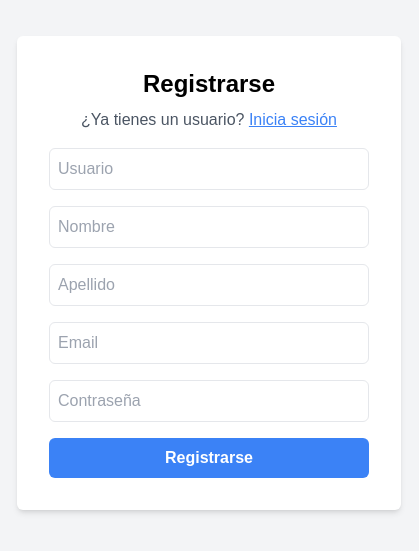
Scenario: Página de Registro › Debe mostrar un mensaje de error si el servidor devuelve un error
# Completar el formulario y enviar
Step 1. Type "mi_usuario" into the field with placeholder "Usuario" → point(209, 169), box [49,148,369,190]
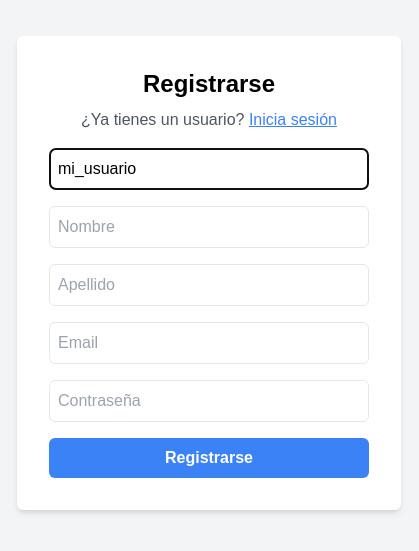
Step 2. Type "Juan" into the field with placeholder "Nombre" → point(209, 227), box [49,206,369,248]
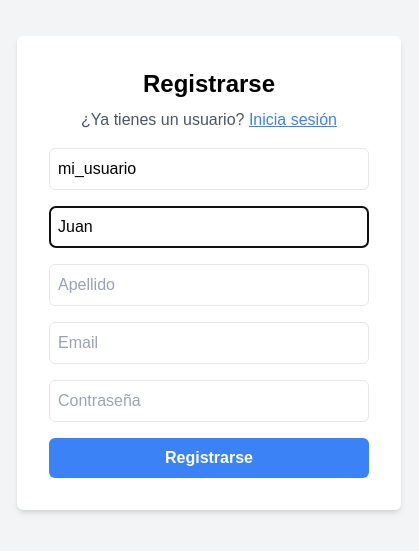
Step 3. Type "Pérez" into the field with placeholder "Apellido" → point(209, 285), box [49,264,369,306]
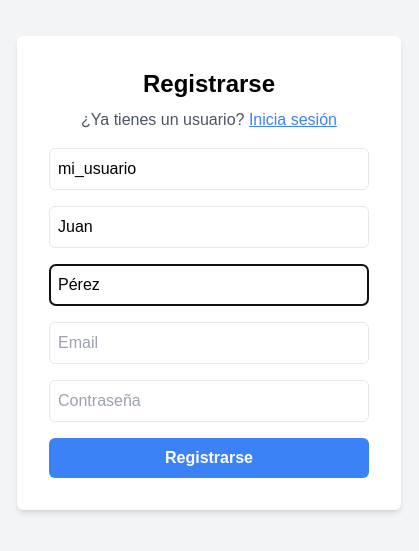
Step 4. Type "juan.perez@example.com" into the field with placeholder "Email" → point(209, 343), box [49,322,369,364]
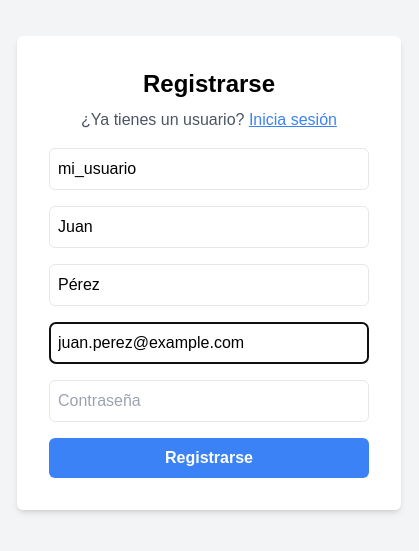
Step 5. Type "mi_password123" into the password field with placeholder "Contraseña" → point(209, 401), box [49,380,369,422]
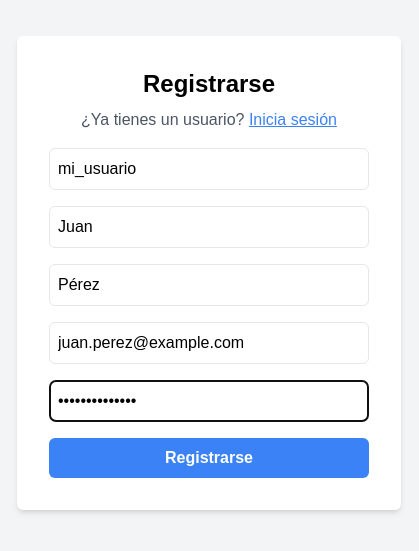
Step 6. Click the button "Registrarse" → point(209, 458), box [49,438,369,478]
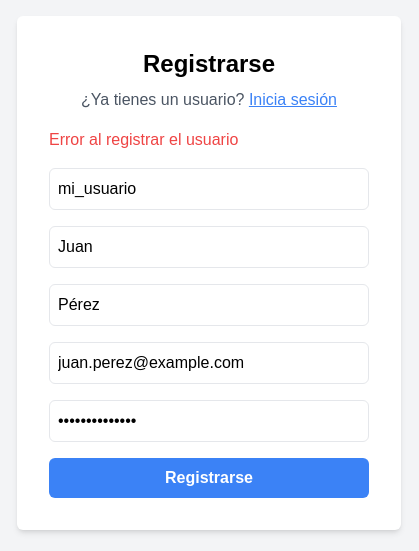
Check: the text "Error al registrar el usuario" is shown, box [49,131,238,148]
